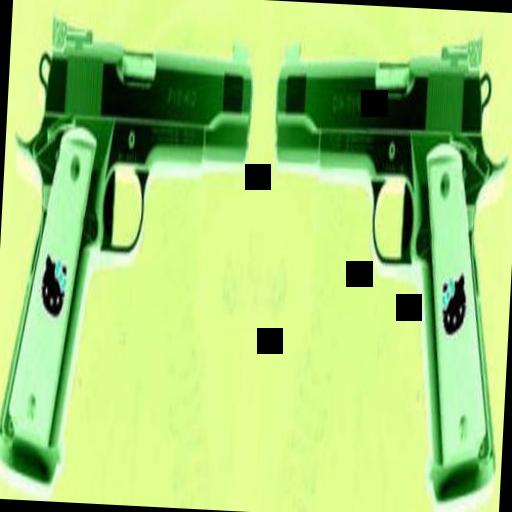Handgun: (0, 3, 255, 495), (255, 20, 512, 500)
